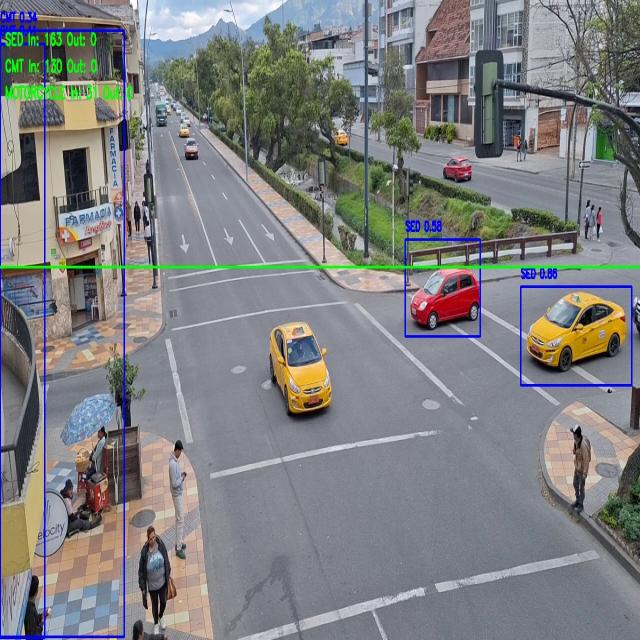BUS: (155, 104, 167, 126)
SED: (527, 292, 625, 366), (270, 321, 330, 412), (412, 266, 480, 326)
SUV: (185, 139, 198, 158)
